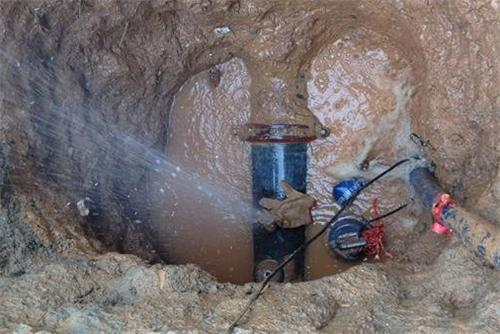pipe burst: (24, 63, 278, 232)
water accumulation: (144, 43, 420, 283)
